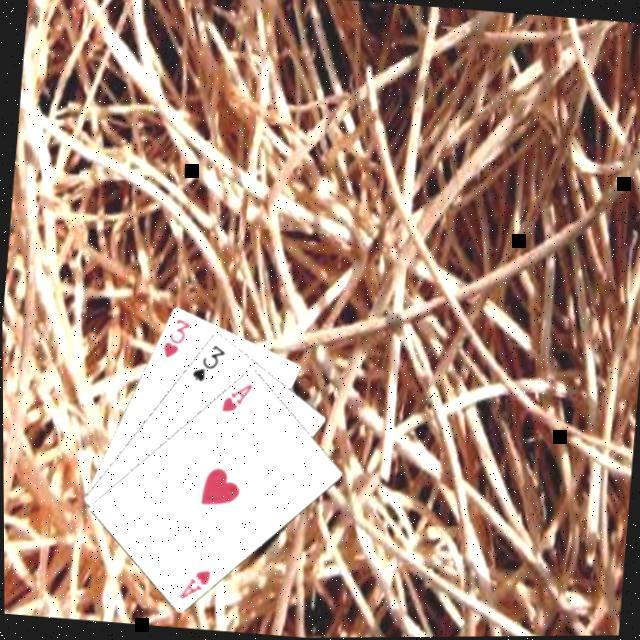3H: (156, 311, 192, 360)
3S: (185, 337, 227, 384)
AH: (172, 562, 211, 601), (214, 376, 253, 414)
